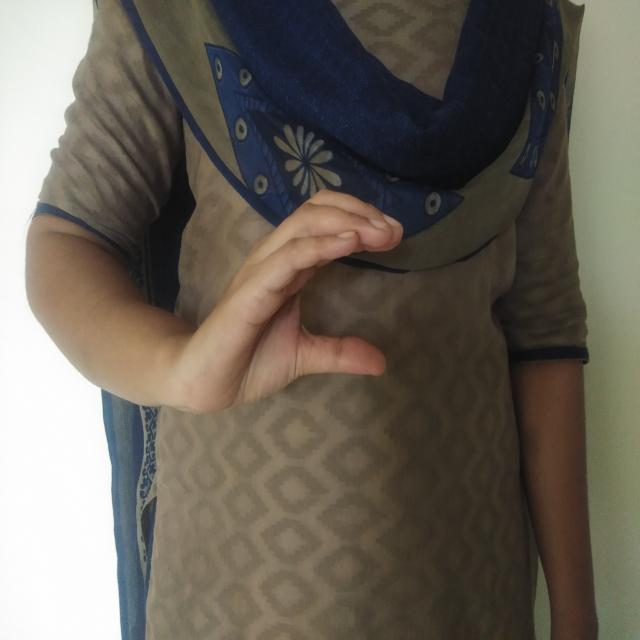c: (169, 164, 409, 444)
